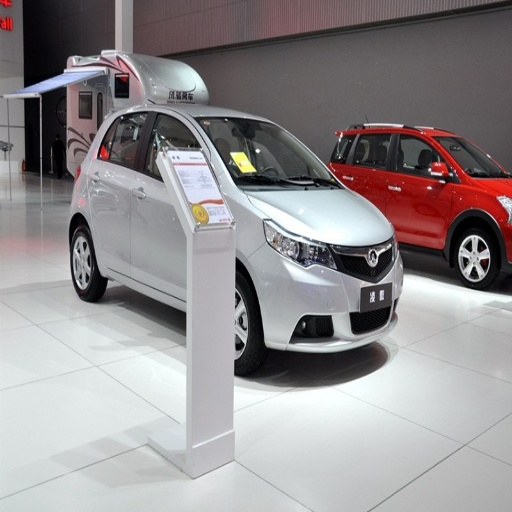front_bumper: (251, 233, 403, 353)
front_right_door: (131, 111, 218, 291), (397, 133, 452, 235)
front_right_light: (263, 220, 333, 267)
